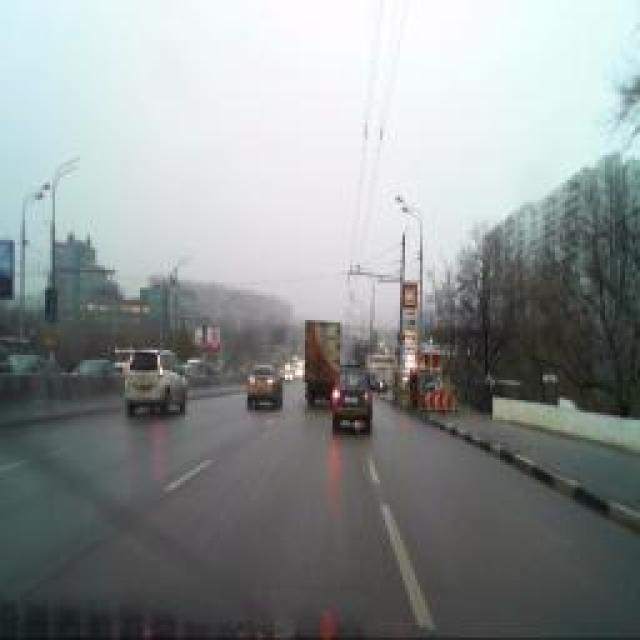sign: (425, 374, 435, 391)
